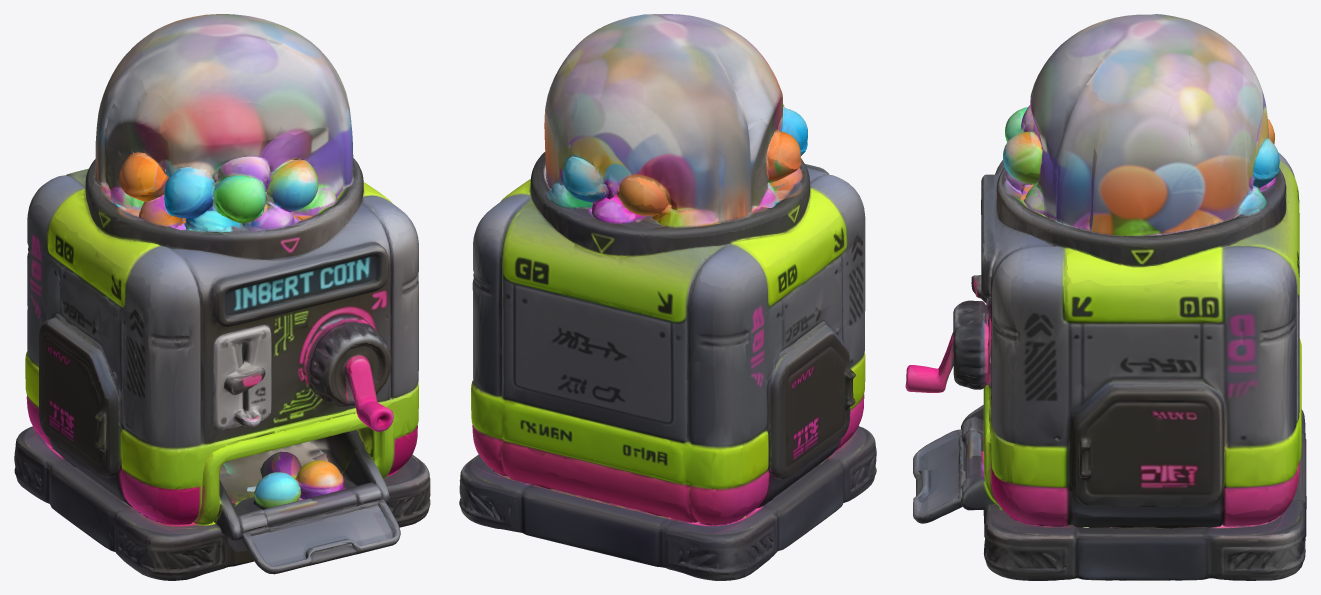
File: u_prp_capsule_machine.glb
The picture shows the model from 3 angles, left to right: view 1: azimuth 30°, elevation 25°; view 2: azimuth 150°, elevation 25°; view 3: azimuth 270°, elevation 25°; orthographic projection. The views are drawn at different scales.
Visible parts, largest first — view 1: geometry_0; view 2: geometry_0; view 3: geometry_0.
Part boxes in pixels (x1,y1,x2,y2): geometry_0: [14, 14, 430, 580]; geometry_0: [459, 14, 876, 580]; geometry_0: [905, 14, 1306, 580].
Bounding box in the file's own units: 0.2446 × 0.35 × 0.2645.
Materials: 1 (1 with a texture image).
